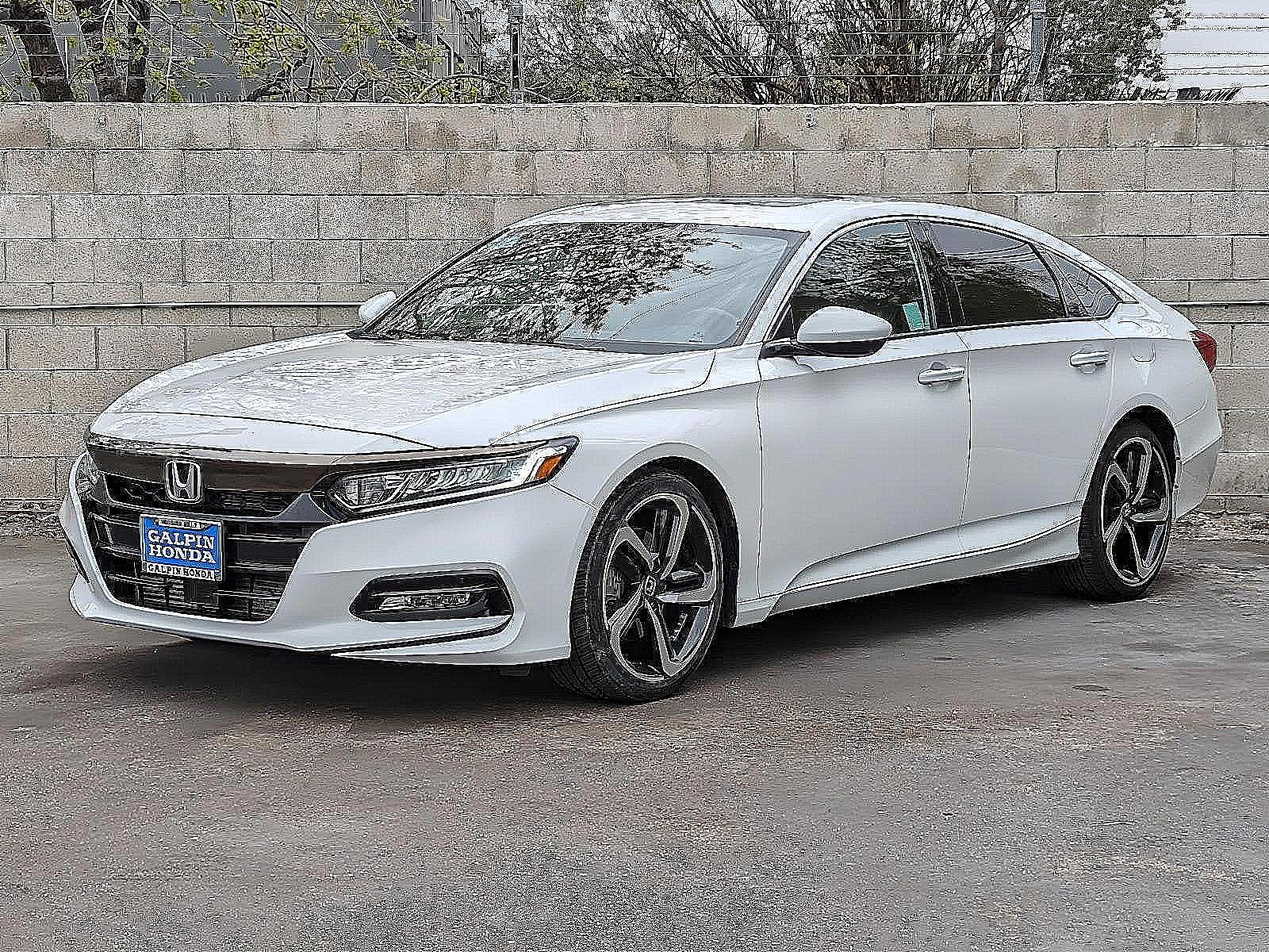Car hood: (78, 324, 726, 472)
Fender - -F-L-: (492, 339, 763, 613)
Fender - -R-L-: (1086, 287, 1209, 512)
Front bumper: (45, 489, 598, 681)
Headlight - -L-: (317, 432, 583, 531)
Headlight - -R-: (62, 448, 117, 507)
Passenger-s door - -F-L-: (762, 210, 971, 599)
Passenger-s door - -R-L-: (968, 210, 1120, 559)
Rear bumper: (1164, 402, 1237, 528)
Rear light - -L-: (1182, 314, 1225, 373)
Side bumper - -L-: (730, 498, 1089, 632)
Side mirror - -L-: (762, 295, 899, 371)
Side mirror - -R-: (348, 279, 406, 334)
